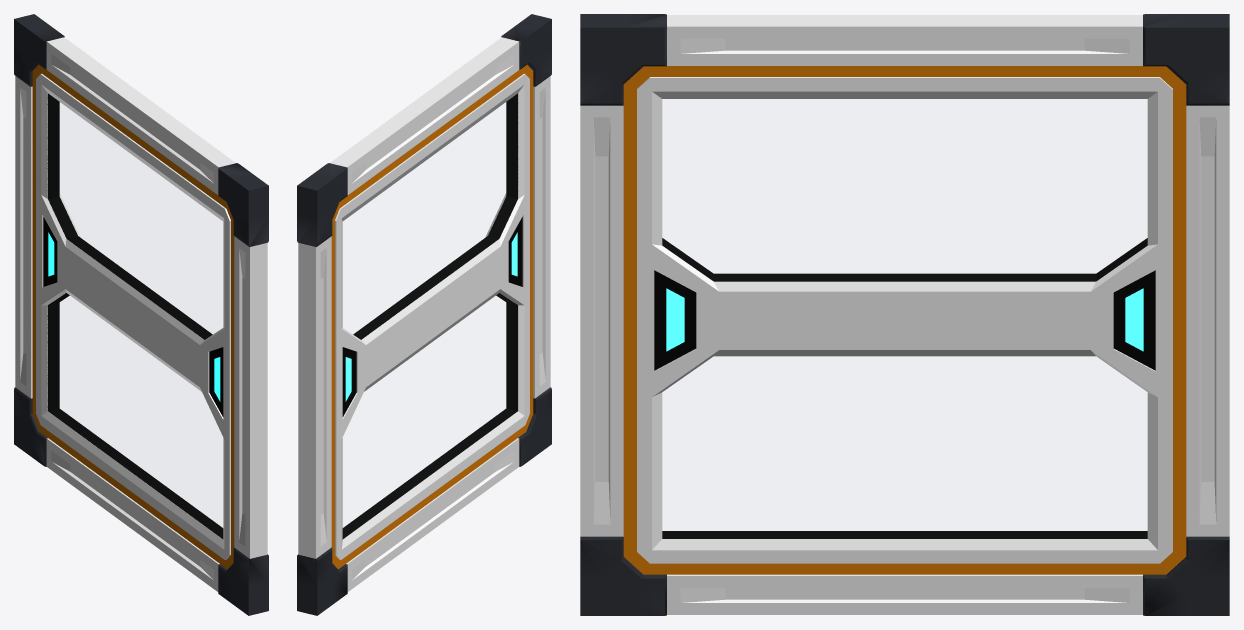
File: SM_WallPanel_Large_Window_Double.fbx
The picture shows the model from 3 angles, left to right: view 1: azimuth 30°, elevation 25°; view 2: azimuth 150°, elevation 25°; view 3: azimuth 270°, elevation 25°; orthographic projection. The views are drawn at different scales.
Parts seen in each view (by area): view 1: SM_WallPanel_Large_Window_Double; view 2: SM_WallPanel_Large_Window_Double; view 3: SM_WallPanel_Large_Window_Double.
Part boxes in pixels (x1,y1,x2,y2): SM_WallPanel_Large_Window_Double: (14,14,268,615); SM_WallPanel_Large_Window_Double: (297,14,551,615); SM_WallPanel_Large_Window_Double: (580,14,1229,615).
Bounding box in the file's own units: 10 × 200 × 200.
